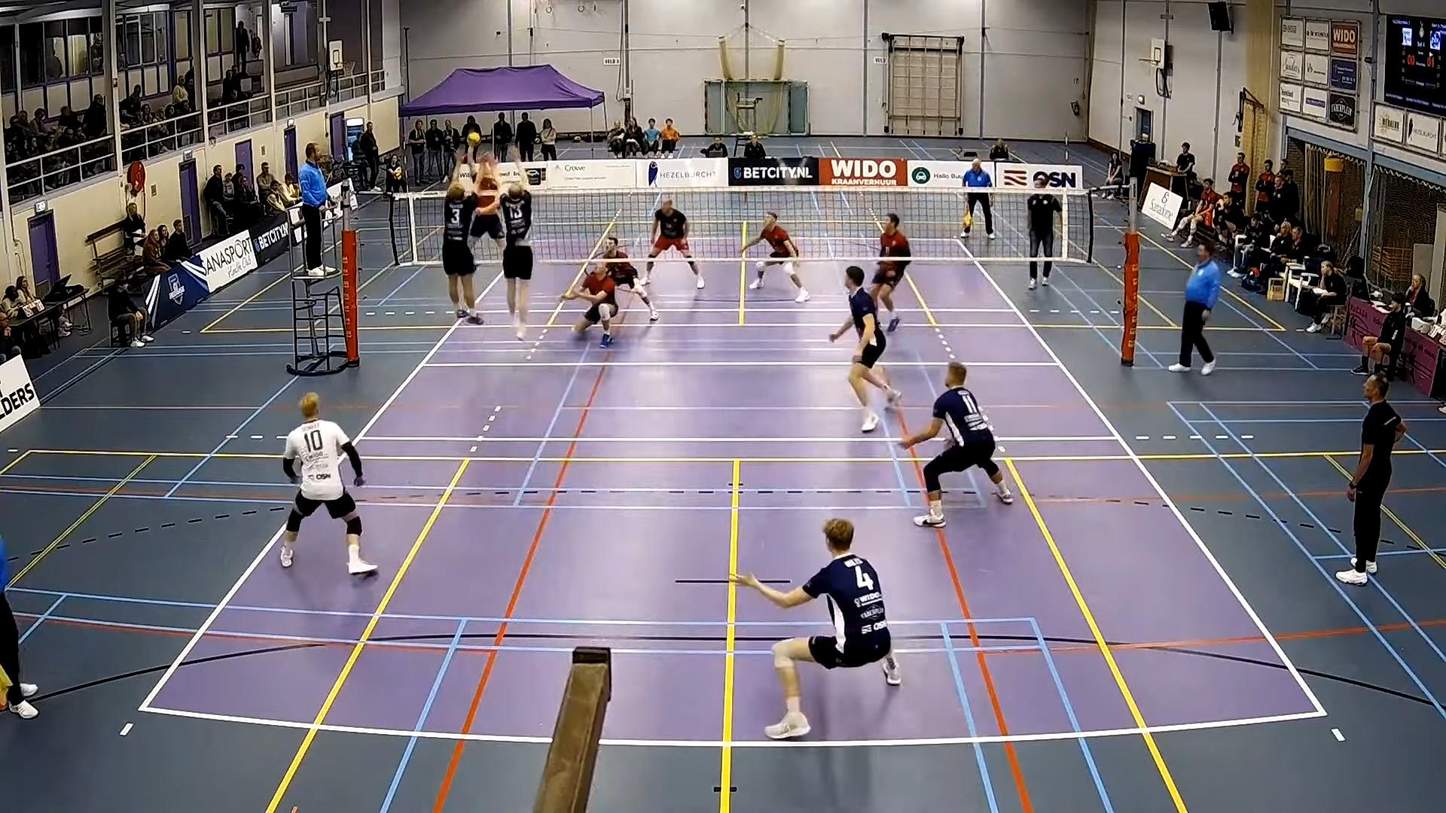Attack: (461, 148, 512, 267)
Block: (488, 151, 541, 330), (436, 157, 487, 326)
Player: (730, 519, 901, 738), (899, 363, 1013, 526), (281, 393, 377, 574), (829, 266, 900, 432), (743, 212, 809, 303), (642, 199, 704, 288), (599, 236, 658, 321), (560, 263, 618, 347), (872, 213, 911, 332)
ball: (466, 131, 481, 144)
